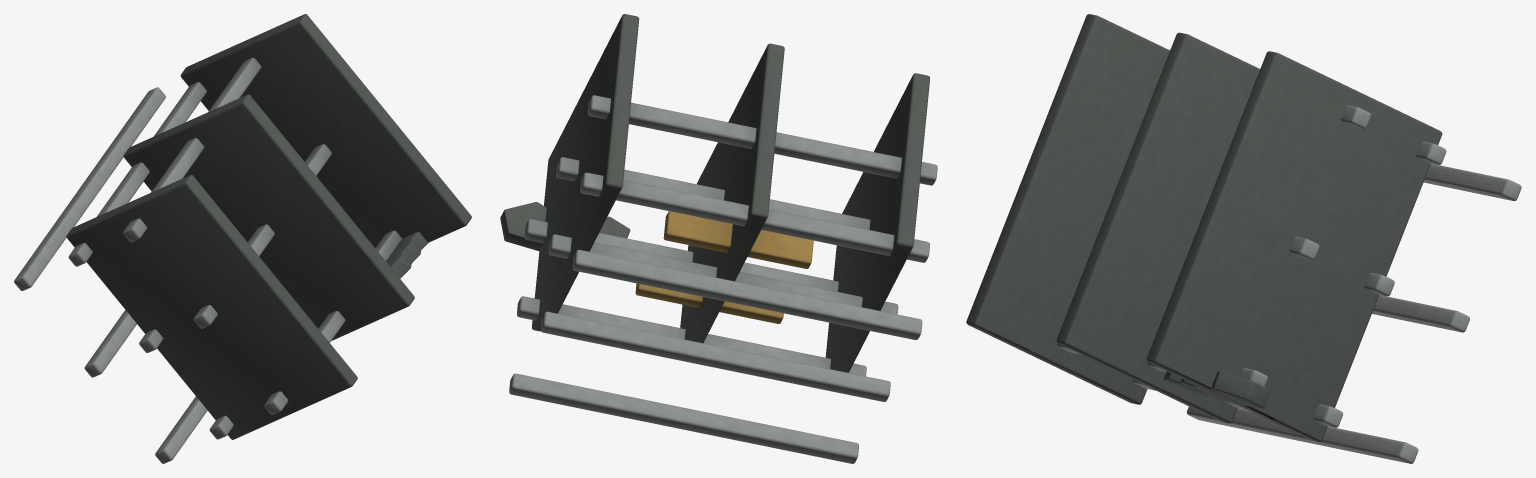
3 views of the same model, side by side, from view 1: azimuth 30°, elevation 25°; view 2: azimuth 150°, elevation 25°; view 3: azimuth 270°, elevation 25° (orthographic). The views are drawn at different scales.
Parts seen in each view (by area): view 1: Open matrix horizontal beam; view 2: Open matrix horizontal beam; view 3: Open matrix horizontal beam.
Boxes of the visible parts, x1,y1,x2,y2 form: Open matrix horizontal beam: (14, 14, 471, 463); Open matrix horizontal beam: (500, 14, 937, 463); Open matrix horizontal beam: (966, 14, 1521, 463).
Size of the model in its own units: 1.44 by 1.32 by 1.41.
Materials: 1 (1 with a texture image).
